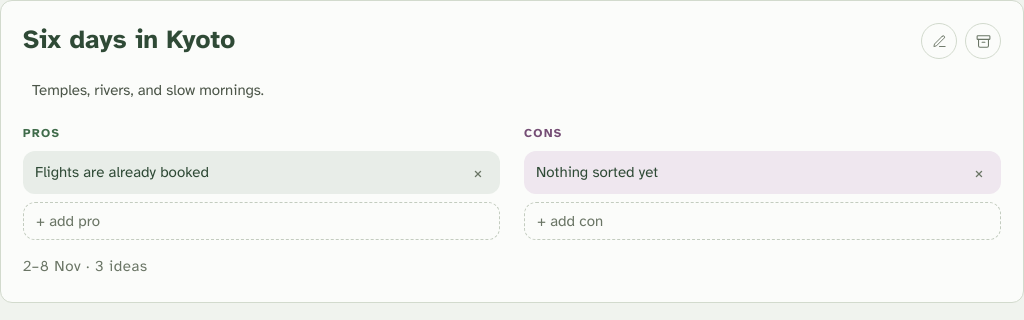
Test case: TripCard › cancels an in-progress rename on Escape without saving
Click the button named "Edit Six days in Kyoto": [939, 41] box top-left (921, 23), bottom-right (957, 59)
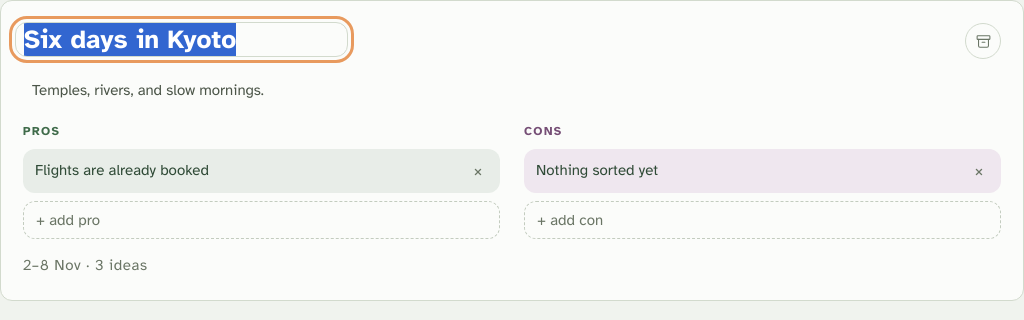
Replace the text in the field named "Trip name for Six days in Kyoto" with "Something I changed my mind about": [182, 39] box top-left (15, 22), bottom-right (348, 57)
Then press Escape
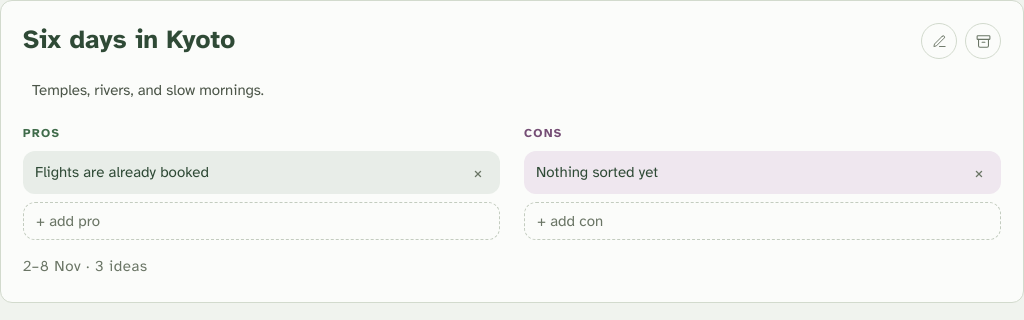
Expected: the link "Six days in Kyoto" is shown, top-left (23, 23), bottom-right (235, 56)
